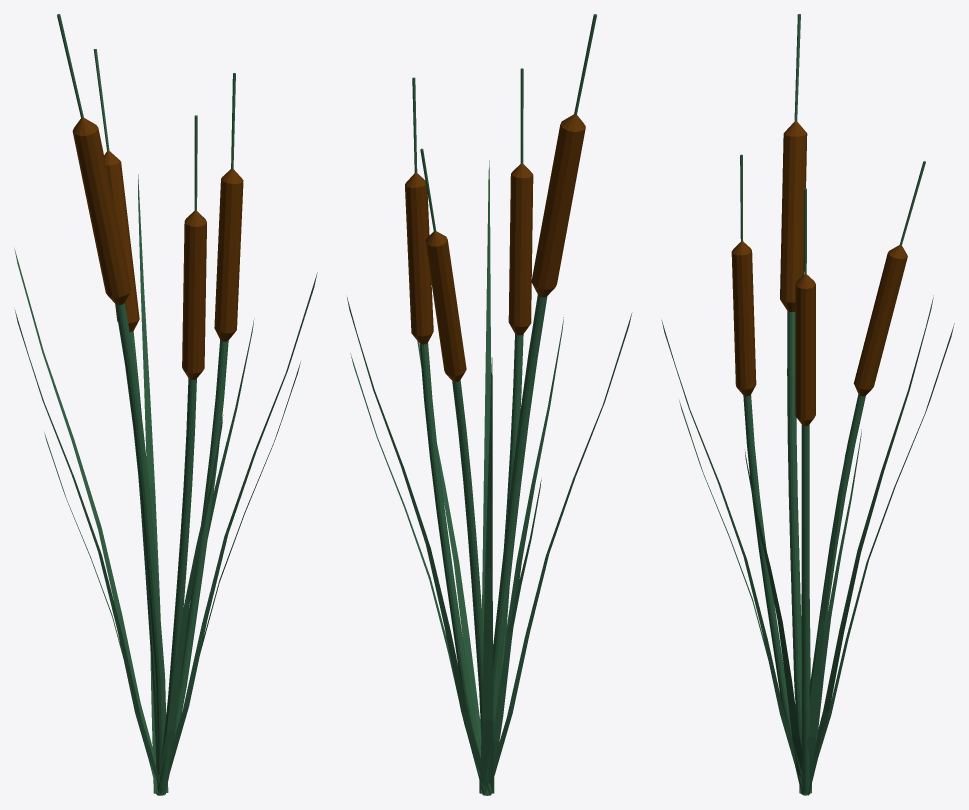
Rendered from mod_vg_reedM.fbx.
The picture shows the model from 3 angles, left to right: view 1: azimuth 30°, elevation 25°; view 2: azimuth 150°, elevation 25°; view 3: azimuth 270°, elevation 25°; orthographic projection. The views are drawn at different scales.
Visible parts, largest first — view 1: RoseauMerge; view 2: RoseauMerge; view 3: RoseauMerge.
Boxes of the visible parts, bbox=[...] form: RoseauMerge: bbox=[14, 14, 317, 795]; RoseauMerge: bbox=[347, 14, 632, 795]; RoseauMerge: bbox=[661, 14, 954, 795].
Bounding box in the file's own units: 37.02 × 109 × 39.57.
